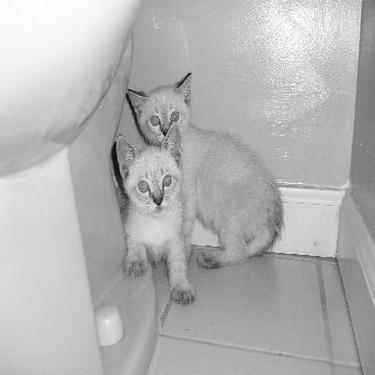cat: (122, 67, 284, 267), (113, 122, 198, 305)
